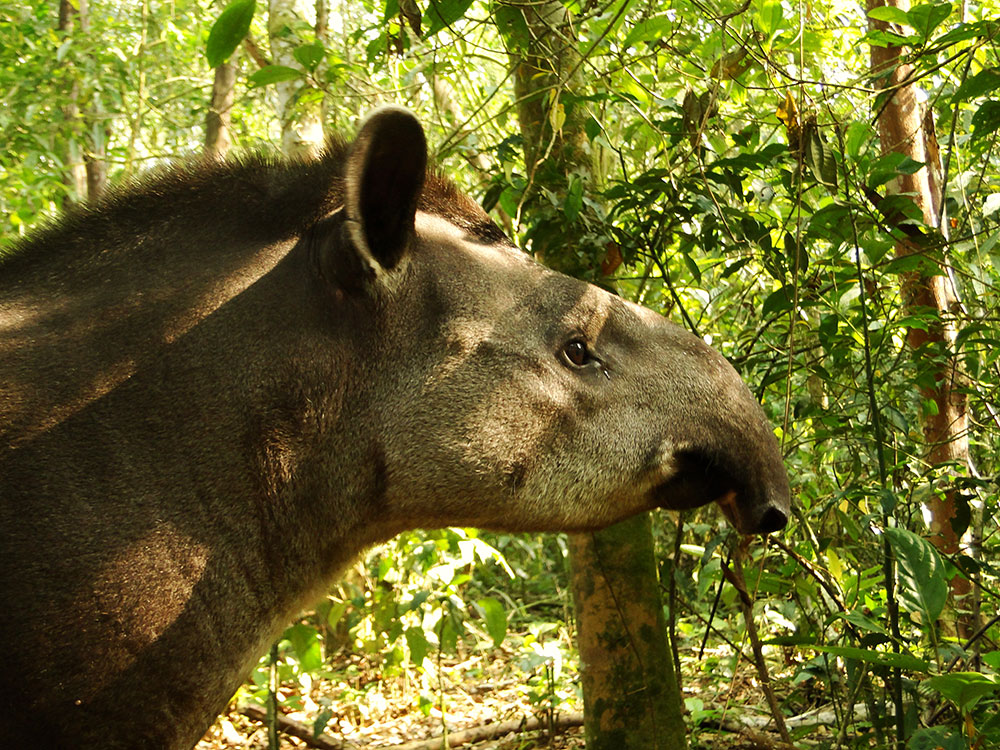Anta: (1, 82, 798, 716)
